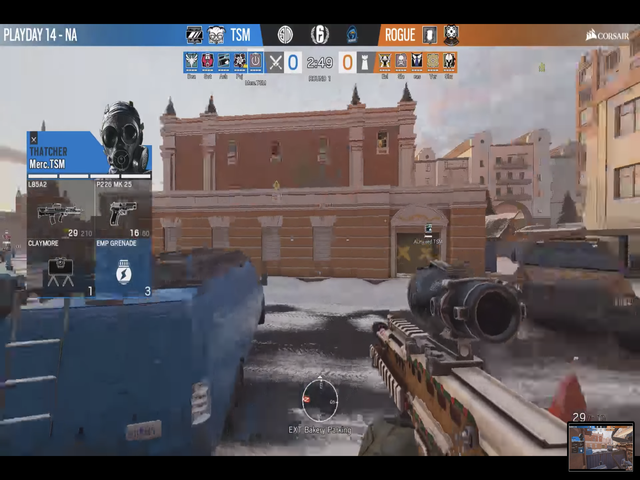0_blue: (283, 49, 304, 73)
